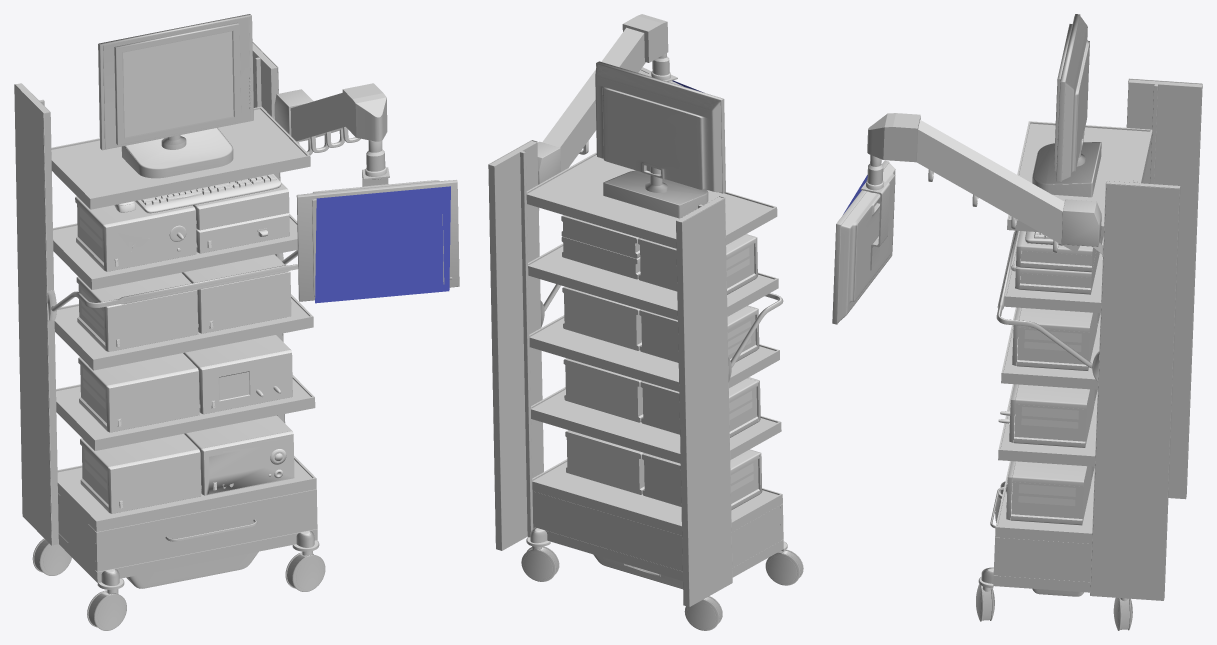
Rendered from monitor1.fbx.
The picture shows the model from 3 angles, left to right: view 1: azimuth 30°, elevation 25°; view 2: azimuth 150°, elevation 25°; view 3: azimuth 270°, elevation 25°; orthographic projection. The views are drawn at different scales.
Parts seen in each view (by area): view 1: D0407300A49, Plane; view 2: D0407300A49; view 3: D0407300A49.
Boxes of the visible parts, box(x1,y1,x2,y2) form: D0407300A49: box(14, 14, 459, 630); Plane: box(315, 186, 450, 303); D0407300A49: box(488, 14, 803, 630); D0407300A49: box(832, 14, 1202, 630).
Size of the model in its own units: 25.94 by 48.05 by 30.3.
